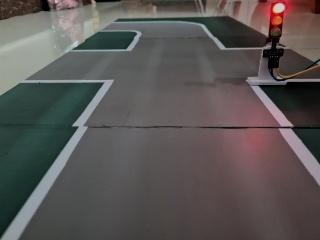red: (265, 0, 289, 50)
